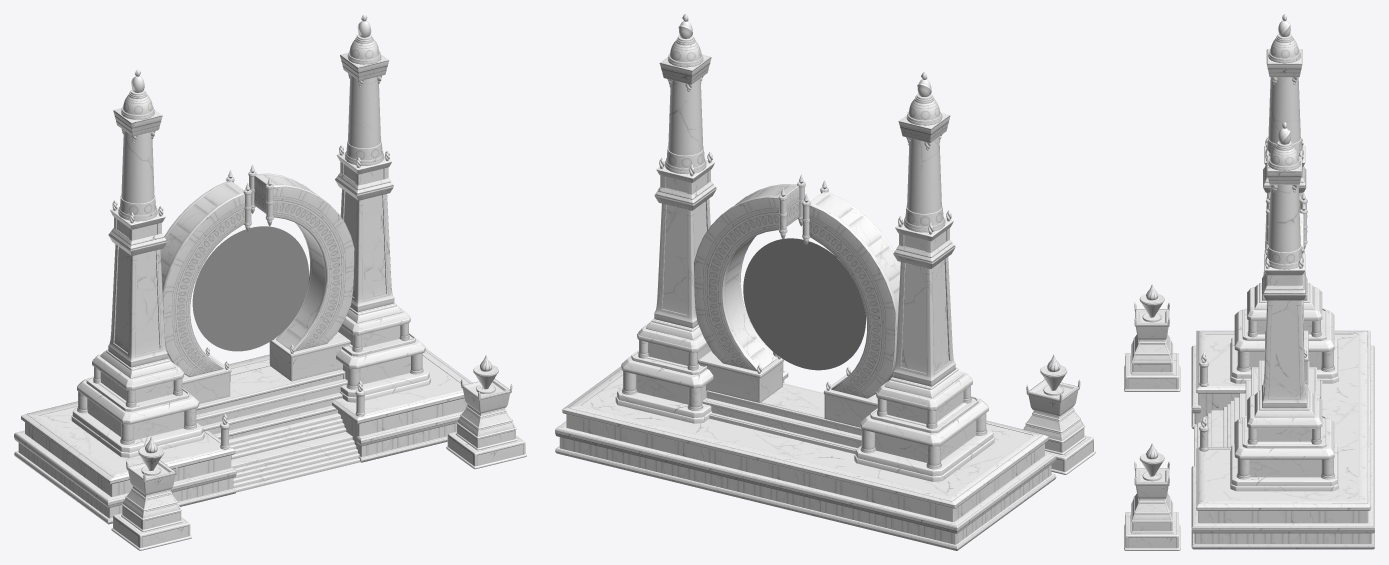
The model's file is portal_gameres_v2.fbx.
3 renders of one model, left to right at view 1: azimuth 30°, elevation 25°; view 2: azimuth 150°, elevation 25°; view 3: azimuth 270°, elevation 25°, orthographic. The views are drawn at different scales.
Visible parts, largest first — view 1: glowportal, polySurface202, polySurface201, polySurface216, pCube195, polySurface217, pCube194, polySurface139, pCube176, pCube173, pCube169, pCube175 (+33 smaller); view 2: polySurface216, glowportal, polySurface202, polySurface201, polySurface217, polySurface139, pCube195, pCube173, pCube194, pCube221, pCube169, polySurface215 (+26 smaller); view 3: polySurface217, polySurface139, polySurface216, pCube194, pCube173, pCylinder35, pCylinder28, pCube214, pCube206, polySurface236, polySurface257, pCube197 (+35 smaller).
Part boxes in pixels (x1,y1,x2,y2): glowportal: (192,226,308,351); polySurface202: (254,173,354,351); polySurface201: (160,181,244,377); polySurface216: (18,398,467,518); pCube195: (108,244,167,367); polySurface217: (38,356,462,473); pCube194: (340,189,394,312); polySurface139: (21,348,472,484); pCube176: (231,431,360,492); pCube173: (14,411,463,507); pCube169: (196,365,345,414); pCube175: (229,413,346,459); polySurface216: (559,380,1051,544); glowportal: (743,238,865,370); polySurface202: (693,184,799,371); polySurface201: (809,192,900,398); polySurface217: (581,375,1032,495); polySurface139: (562,366,1048,508); pCube195: (893,257,955,386); pCube173: (555,421,1056,533); pCube194: (654,199,710,328); pCube221: (555,446,1056,550); pCube169: (706,383,861,435); polySurface215: (698,351,783,402); polySurface217: (1203,334,1358,500); polySurface139: (1196,330,1370,510); polySurface216: (1194,393,1372,543); pCube194: (1262,300,1307,408); pCube173: (1191,345,1374,533); pCylinder35: (1268,185,1300,252); pCylinder28: (1268,77,1300,143); pCube214: (1250,459,1321,477); pCube206: (1231,444,1337,486); polySurface236: (1124,353,1180,391); polySurface257: (1124,512,1180,550); pCube197: (1263,253,1306,300).
Bounding box in the file's own units: 1586 × 1569 × 913.
